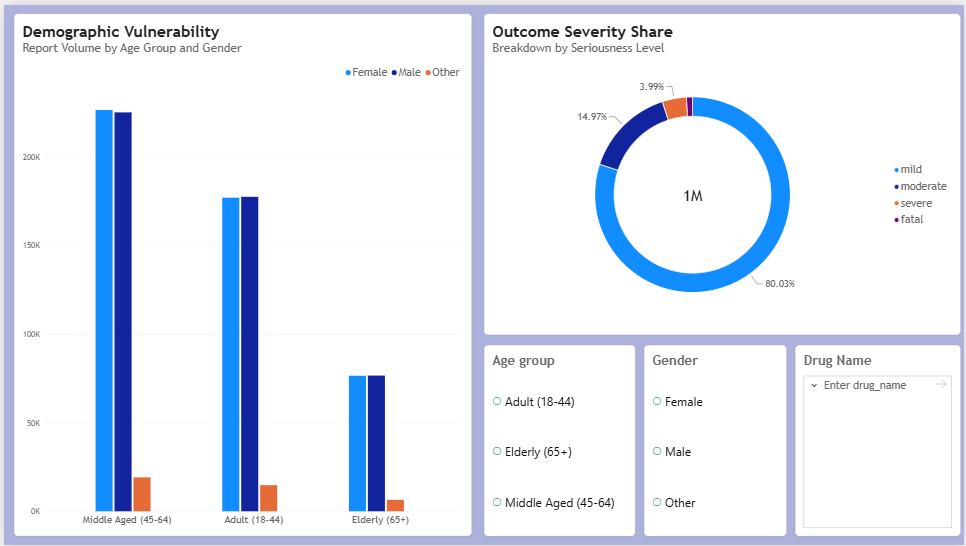

What the dashboard file says about the page in this screenshot:
{"tool":"powerbi","page":{"name":"Demographic & Outcome Breakdown","canvas":[1920,1080],"ordinal":1},"visuals":[{"type":"donutChart","title":"Outcome Severity Share","fields":{"Category":["Dim_Events.seriousness"],"Y":["_Measures.Total Reported Cases"]},"box":[960,17.5,952.5,642.5],"z":0},{"type":"clusteredColumnChart","title":"Demographic Vulnerability","fields":{"Category":["Dim_Patients.age_group"],"Series":["Dim_Patients.gender"],"Y":["_Measures.Total Reported Cases"]},"box":[20,17.5,915,1045],"z":1000},{"type":"listSlicer","fields":{"Values":["Dim_Patients.age_group"]},"box":[960,680,302.5,382.5],"z":2000},{"type":"listSlicer","fields":{"Values":["Dim_Patients.gender"]},"box":[1280,680,285,382.5],"z":3000},{"type":"textSlicer","fields":{"Values":["Dim_Drugs.drug_name"]},"box":[1582.5,680,330,382.5],"z":4000}]}

Visuals, with their boxes in screenshot pixels (x1, y1, x2, y2), scaled from the page's 1920x1080 canvas onto the 966x546 screenshot:
"Outcome Severity Share" donutChart: 483,9,962,334
"Demographic Vulnerability" clusteredColumnChart: 10,9,470,537
listSlicer - Dim_Patients.age_group: 483,344,635,537
listSlicer - Dim_Patients.gender: 644,344,787,537
textSlicer - Dim_Drugs.drug_name: 796,344,962,537
